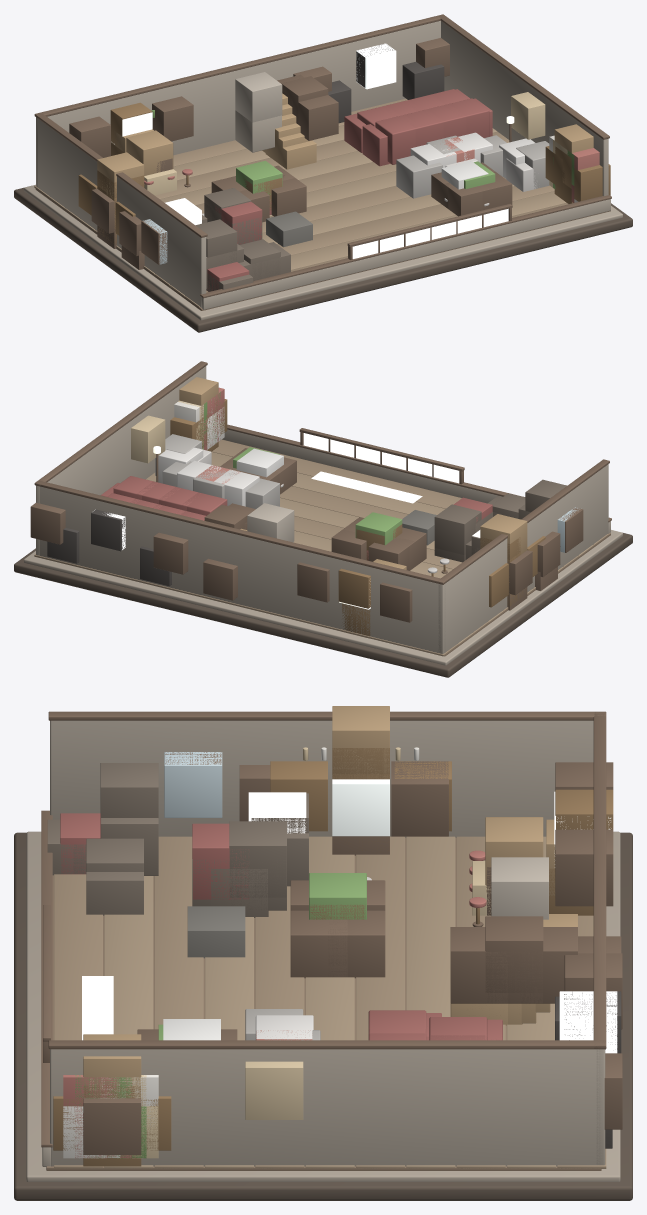
File: house-b1.glb
3 views of the same model, one above another, from view 1: azimuth 30°, elevation 25°; view 2: azimuth 150°, elevation 25°; view 3: azimuth 270°, elevation 25° (orthographic). The views are drawn at different scales.
Visible parts, largest first — view 1: WallNorth, Plinth, WallWest, Skirt, WallEast, SouthStub, Plank2, WallNorthCap, WellGlass, ST_SideCap, Plank3, Plank1 (+66 smaller); view 2: WallNorth, Plinth, WallWest, Skirt, WallEast, SouthStub, WallNorthCap, Plank0, Plank1, WellGlass, GYM_BikeHandle, Plank2 (+51 smaller); view 3: WallEast, WallWest, Plinth, Skirt, Plank7, Plank2, Plank0, Plank1, Plank6, WallEastCap, WallWestCap, WallNorthCap (+63 smaller).
Part boxes in pixels (x1,y1,x2,y2): WallNorth: (36, 20, 440, 187); Plinth: (14, 187, 632, 332); WallWest: (38, 119, 206, 307); Skirt: (24, 184, 622, 320); WallEast: (441, 21, 608, 196); SouthStub: (201, 199, 610, 309); Plank2: (154, 185, 554, 285); WallNorthCap: (34, 14, 445, 118); WellGlass: (352, 208, 508, 258); ST_SideCap: (235, 72, 282, 122); Plank3: (143, 177, 514, 274); Plank1: (169, 191, 566, 296); WallNorth: (40, 486, 445, 653); Plinth: (14, 533, 632, 677); WallWest: (438, 464, 608, 653); Skirt: (24, 530, 622, 665); WallEast: (36, 366, 206, 555); SouthStub: (222, 429, 610, 533); WallNorthCap: (35, 480, 446, 584); Plank0: (212, 439, 608, 545); Plank1: (211, 452, 593, 556); WellGlass: (303, 433, 459, 483); GYM_BikeHandle: (434, 504, 481, 554); Plank2: (280, 486, 578, 567); WallEast: (50, 1049, 605, 1166); WallWest: (50, 720, 593, 837); Plinth: (14, 832, 632, 1200); Skirt: (26, 831, 620, 1181); Plank7: (406, 836, 455, 1168); Plank2: (154, 836, 203, 1168); Plank0: (54, 874, 102, 1168); Plank1: (104, 876, 153, 1168); Plank6: (356, 836, 404, 1168); WallEastCap: (48, 1040, 606, 1049); WallWestCap: (48, 711, 606, 720); WallNorthCap: (593, 711, 606, 1049).
Size of the model in its own units: 14.55 by 2.87 by 10.7.
